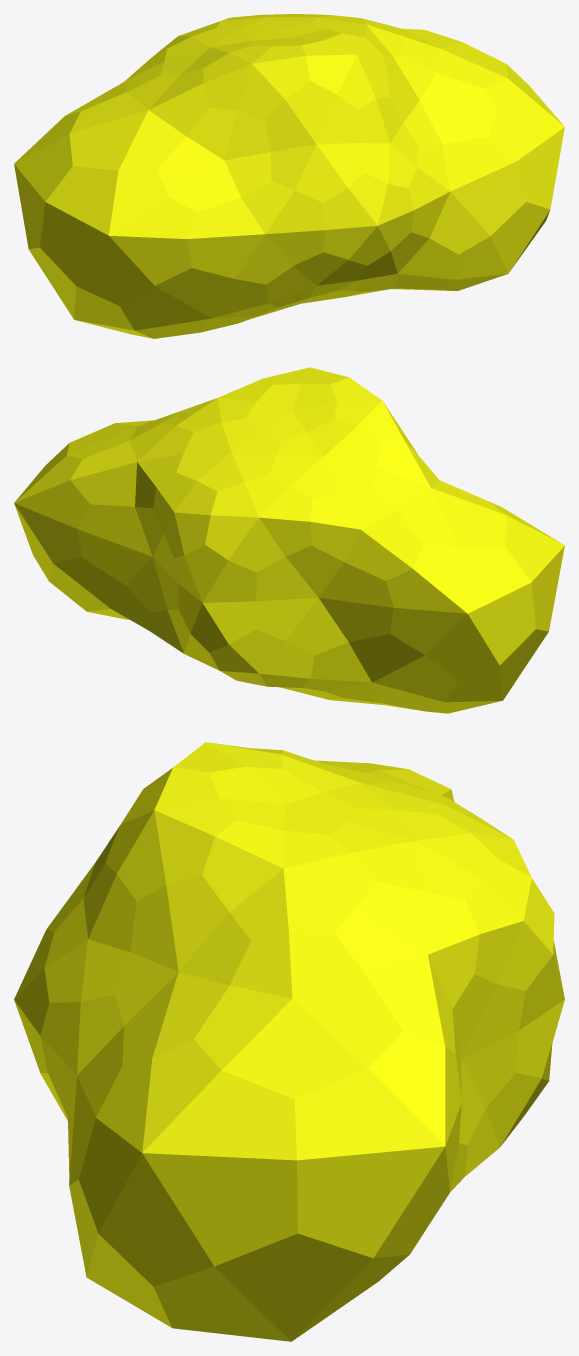
File: Yellow cloud.fbx
The picture shows the model from 3 angles, top to bottom: view 1: azimuth 30°, elevation 25°; view 2: azimuth 150°, elevation 25°; view 3: azimuth 270°, elevation 25°; orthographic projection. The views are drawn at different scales.
Parts seen in each view (by area): view 1: Cloud1; view 2: Cloud1; view 3: Cloud1.
Boxes of the visible parts, left/top/right/bottom form: Cloud1: left=14, top=14, right=564, bottom=338; Cloud1: left=14, top=367, right=564, bottom=713; Cloud1: left=14, top=742, right=564, bottom=1341.
Bounding box in the file's own units: 297 × 163 × 185.
